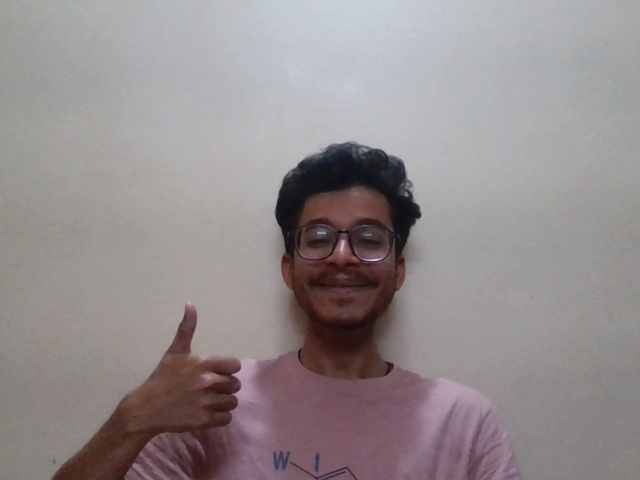yes: (100, 274, 261, 448)
